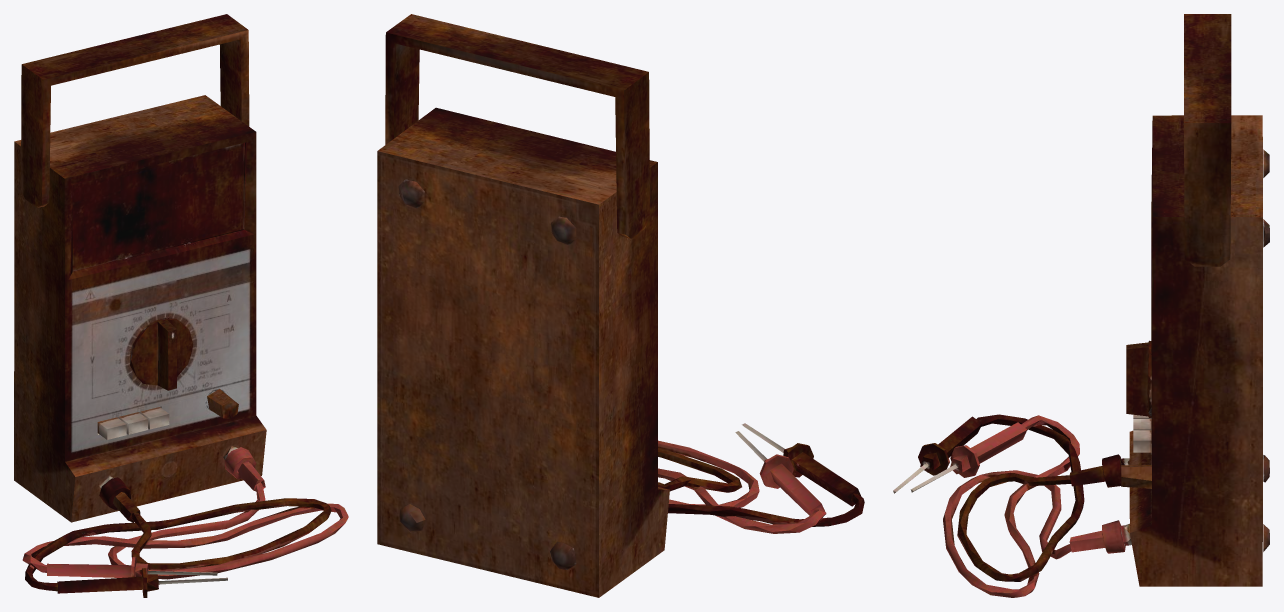
File: retro_multimeter.glb
The picture shows the model from 3 angles, left to right: view 1: azimuth 30°, elevation 25°; view 2: azimuth 150°, elevation 25°; view 3: azimuth 270°, elevation 25°; orthographic projection. The views are drawn at different scales.
Parts seen in each view (by area): view 1: retro_multimeter; view 2: retro_multimeter; view 3: retro_multimeter.
Boxes of the visible parts, x1,y1,x2,y2 form: retro_multimeter: [14, 14, 348, 597]; retro_multimeter: [377, 14, 864, 597]; retro_multimeter: [893, 14, 1269, 597].
Size of what is drawn, in the model's own units: 0.2161 by 0.278 by 0.2027.
Materials: 1 (1 with a texture image).
